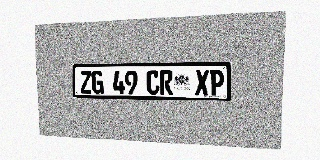4: (112, 70, 125, 94)
9: (125, 70, 138, 94)
C: (146, 70, 159, 95)
G: (91, 70, 104, 94)
P: (209, 69, 224, 95)
R: (160, 70, 173, 95)
X: (195, 70, 209, 95)
Z: (80, 70, 92, 94)
